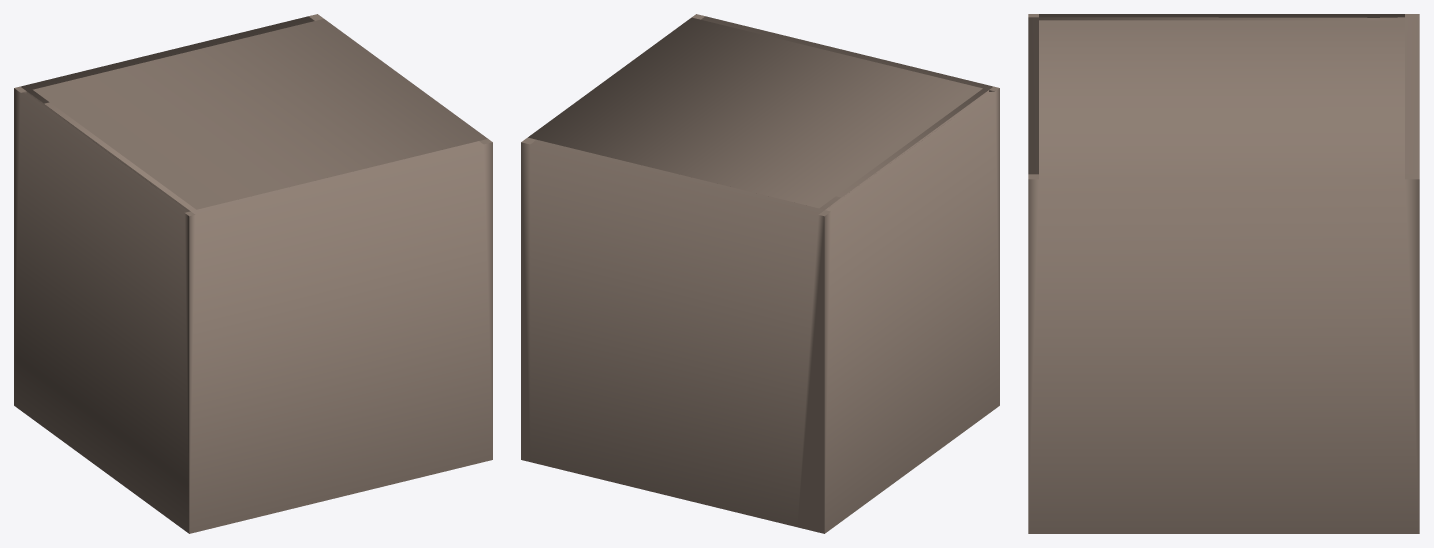
File: shutCardboardBox.fbx
3 views of the same model, side by side, from view 1: azimuth 30°, elevation 25°; view 2: azimuth 150°, elevation 25°; view 3: azimuth 270°, elevation 25° (orthographic). The views are drawn at different scales.
Parts seen in each view (by area): view 1: pCube1; view 2: pCube1; view 3: pCube1.
Boxes of the visible parts, bbox=[...] form: pCube1: bbox=[14, 14, 492, 533]; pCube1: bbox=[521, 14, 999, 533]; pCube1: bbox=[1028, 14, 1419, 533].
Size of the model in its own units: 5.4 by 5.41 by 5.4.
